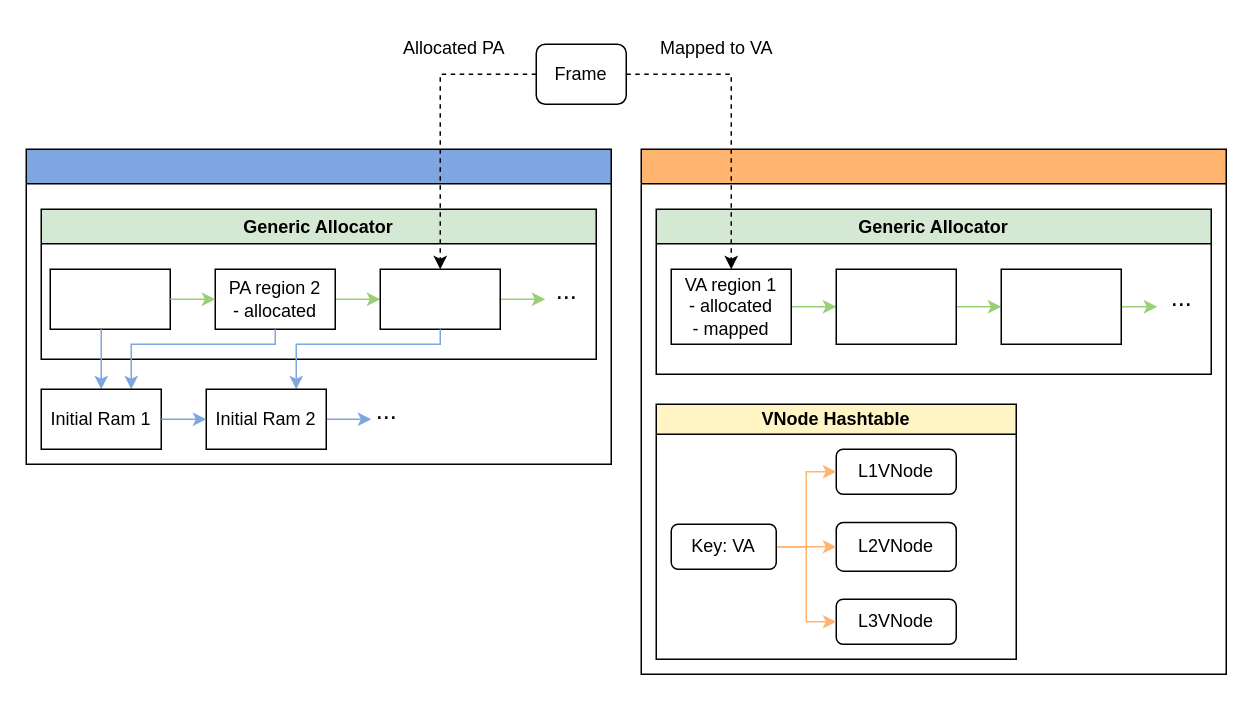
The diagram is 1253 pixels wide and 701 high, and some of its shapes have lost their labels. The box of each missing label's shape, as (x1, y1, x2, y2) in pixels:
Memory Manager: (25, 148, 611, 464)
PA region 1 - free: (49, 268, 170, 329)
PA region 3 - allocated: (379, 268, 500, 329)
Paging: (640, 148, 1226, 674)
VA region 2 - allocated - unmapped: (835, 268, 956, 344)
VA region 3 - unallocated: (1000, 268, 1121, 344)
